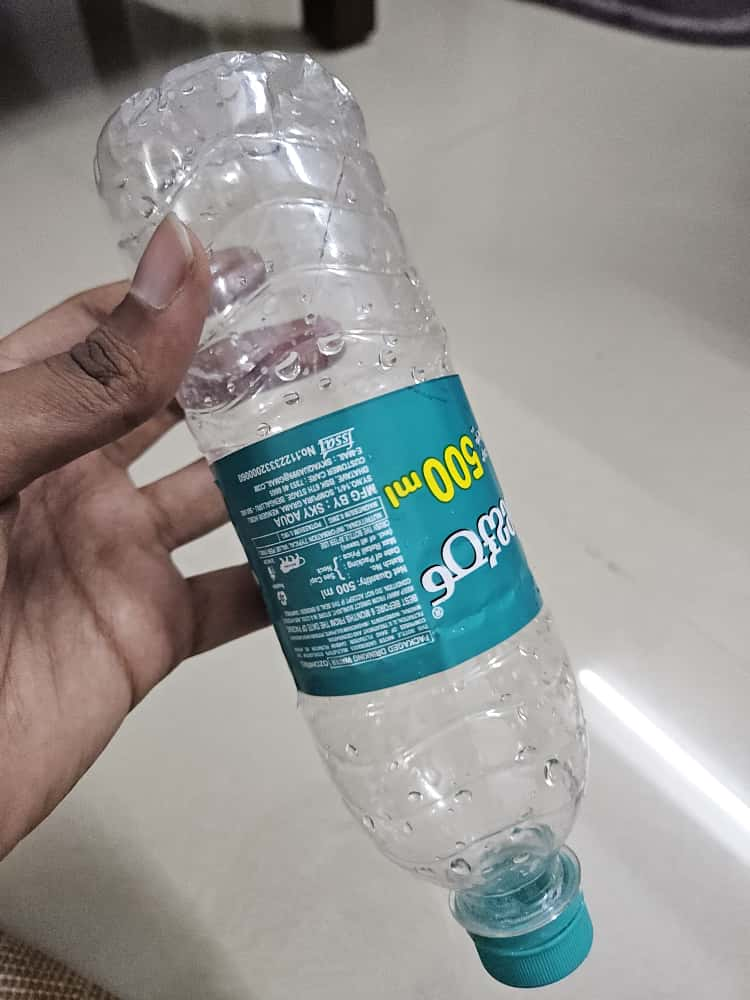dry: (59, 35, 691, 966)
